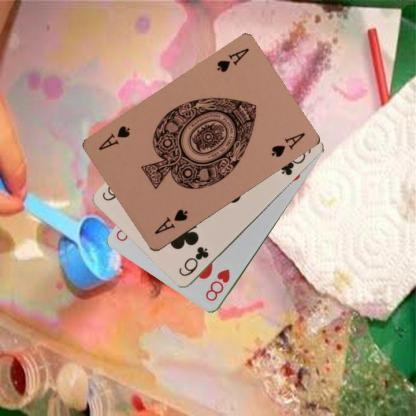6c: (176, 244, 210, 278)
8h: (203, 266, 232, 304)
As: (151, 207, 189, 236), (214, 46, 251, 74)
